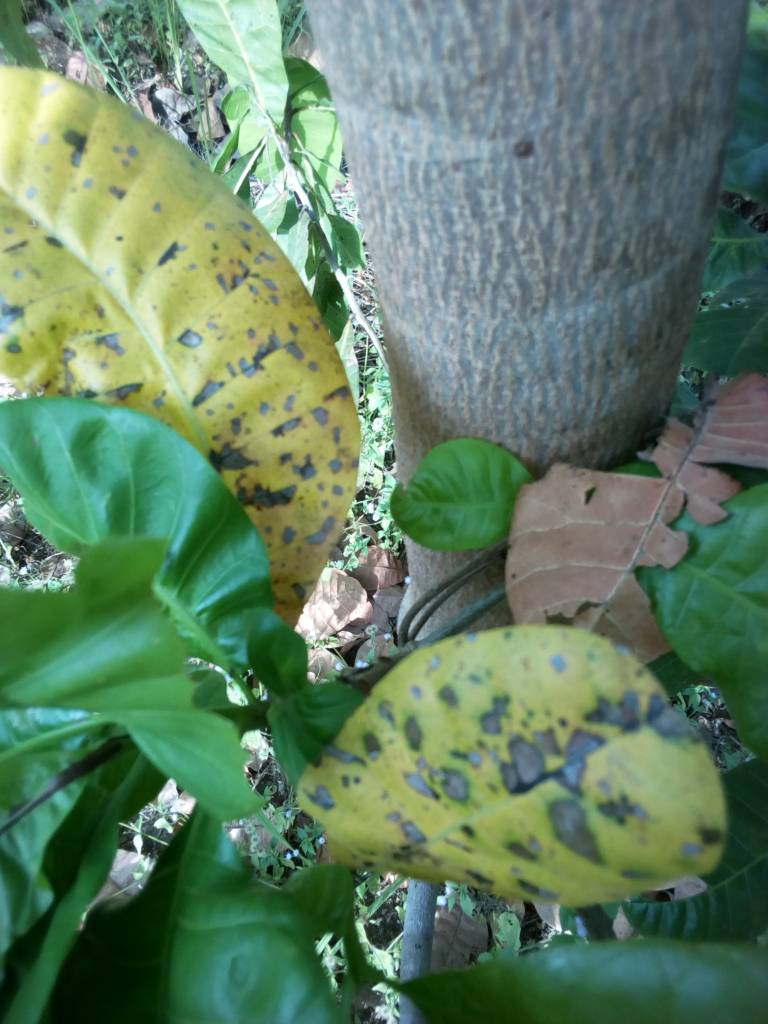Bactériose: (1, 88, 346, 541), (315, 628, 725, 892)
